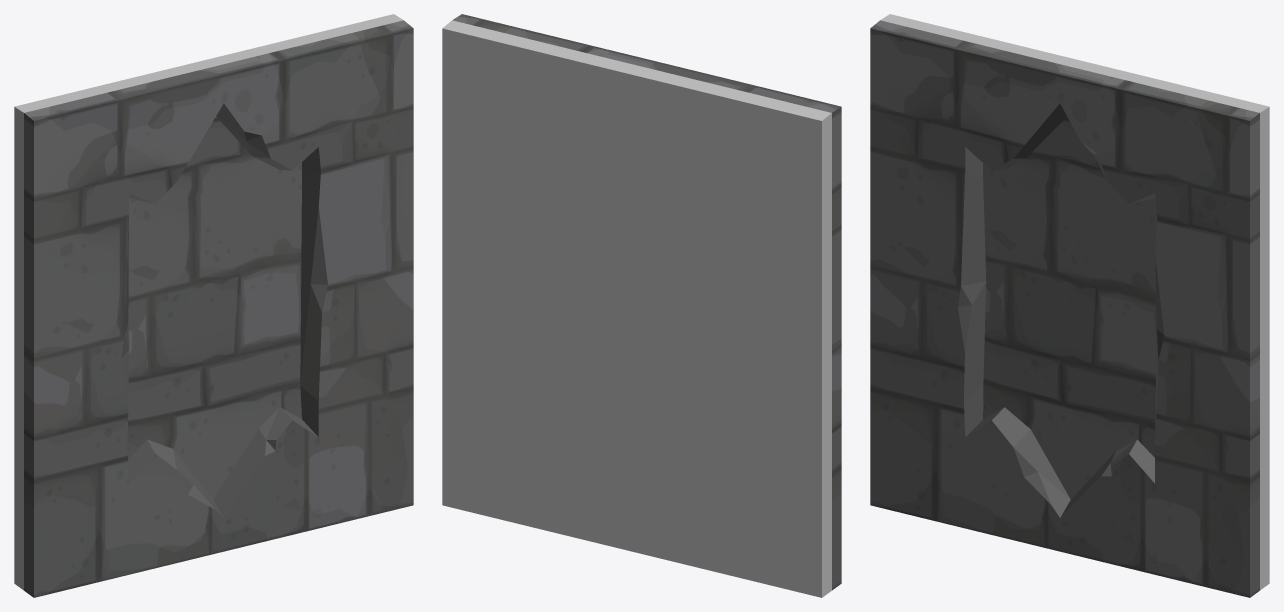
Rendered from SM_Bld_Wall_L_03.fbx.
3 views of the same model, side by side, from view 1: azimuth 30°, elevation 25°; view 2: azimuth 150°, elevation 25°; view 3: azimuth 330°, elevation 25° (orthographic).
Parts seen in each view (by area): view 1: SM_Bld_Wall_L_03; view 2: SM_Bld_Wall_L_03; view 3: SM_Bld_Wall_L_03.
Boxes of the visible parts, x1,y1,x2,y2 form: SM_Bld_Wall_L_03: (14, 14, 413, 597); SM_Bld_Wall_L_03: (442, 14, 841, 597); SM_Bld_Wall_L_03: (870, 14, 1269, 597).
Size of the model in its own units: 500 by 601 by 45.
